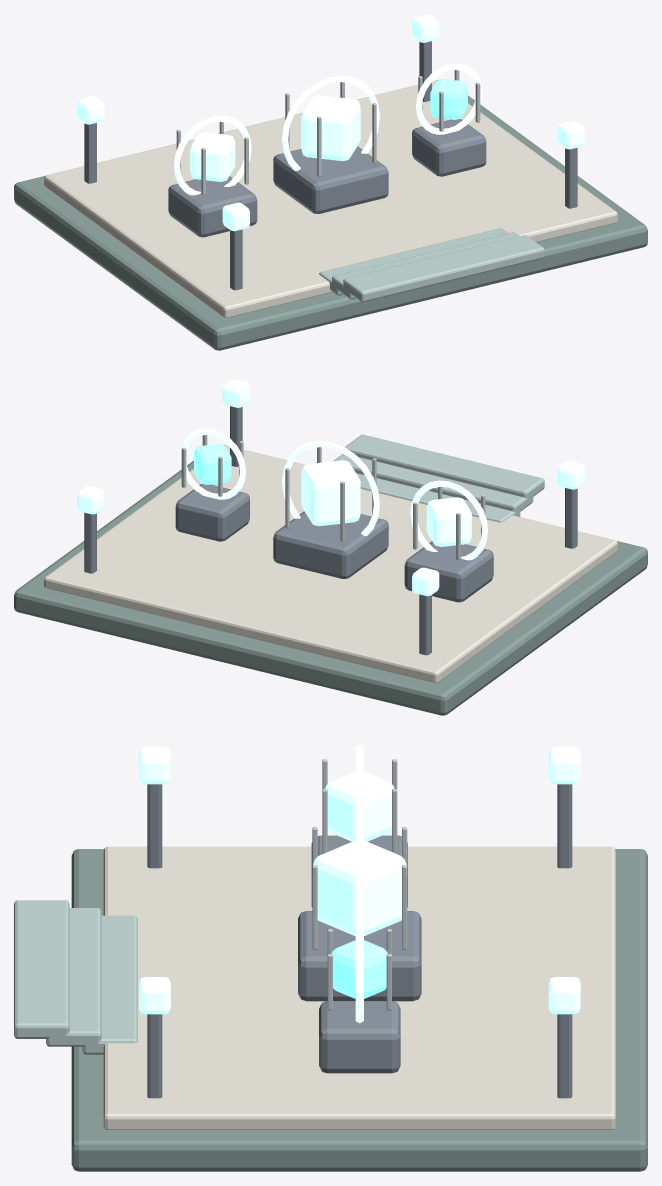
The model's file is 13-plaza-beacon-kit.glb.
The picture shows the model from 3 angles, top to bottom: view 1: azimuth 30°, elevation 25°; view 2: azimuth 150°, elevation 25°; view 3: azimuth 270°, elevation 25°; orthographic projection. The views are drawn at different scales.
Parts seen in each view (by area): view 1: PlazaKit_Top, PlazaKit_Base, PlazaKit_Step_2, Beacon_1_Pedestal, Beacon_0_Pedestal, Beacon_1_Cube, Beacon_2_Pedestal, Beacon_0_Cube, PlazaKit_Step_0, Beacon_1_Halo, PlazaKit_Step_1, Beacon_2_Cube (+10 smaller); view 2: PlazaKit_Top, PlazaKit_Base, Beacon_1_Pedestal, PlazaKit_Step_2, Beacon_0_Pedestal, Beacon_1_Cube, Beacon_2_Pedestal, PlazaKit_Step_1, Beacon_0_Cube, PlazaKit_Step_0, Beacon_1_Halo, Beacon_2_Cube (+10 smaller); view 3: PlazaKit_Top, PlazaKit_Base, PlazaKit_Step_2, Beacon_1_Cube, Beacon_1_Pedestal, Beacon_2_Pedestal, PlazaKit_Step_0, PlazaKit_Step_1, Beacon_0_Cube, Beacon_2_Cube, PlazaKit_LampPost_1, PlazaKit_LampPost_3 (+9 smaller).
Part boxes in pixels (left/top/right/bottom): PlazaKit_Top: left=44, top=80, right=617, bottom=317; PlazaKit_Base: left=14, top=80, right=647, bottom=350; PlazaKit_Step_2: left=343, top=235, right=544, bottom=302; Beacon_1_Pedestal: left=273, top=146, right=388, bottom=213; Beacon_0_Pedestal: left=168, top=176, right=257, bottom=237; Beacon_1_Cube: left=301, top=95, right=360, bottom=161; Beacon_2_Pedestal: left=412, top=119, right=486, bottom=176; Beacon_0_Cube: left=190, top=132, right=235, bottom=181; PlazaKit_Step_0: left=319, top=228, right=508, bottom=295; Beacon_1_Halo: left=282, top=75, right=379, bottom=170; PlazaKit_Step_1: left=332, top=232, right=519, bottom=299; Beacon_2_Cube: left=430, top=79, right=467, bottom=119; PlazaKit_Top: left=44, top=445, right=617, bottom=682; PlazaKit_Base: left=14, top=445, right=647, bottom=715; Beacon_1_Pedestal: left=273, top=511, right=388, bottom=578; PlazaKit_Step_2: left=345, top=434, right=544, bottom=499; Beacon_0_Pedestal: left=404, top=541, right=493, bottom=602; Beacon_1_Cube: left=301, top=460, right=360, bottom=526; Beacon_2_Pedestal: left=175, top=484, right=249, bottom=541; PlazaKit_Step_1: left=333, top=454, right=533, bottom=513; Beacon_0_Cube: left=426, top=497, right=471, bottom=546; PlazaKit_Step_0: left=356, top=473, right=520, bottom=522; Beacon_1_Halo: left=282, top=440, right=379, bottom=535; Beacon_2_Cube: left=194, top=444, right=231, bottom=484; PlazaKit_Top: left=103, top=846, right=615, bottom=1129; PlazaKit_Base: left=71, top=849, right=647, bottom=1171; PlazaKit_Step_2: left=14, top=900, right=69, bottom=1038; Beacon_1_Cube: left=313, top=840, right=406, bottom=935; Beacon_1_Pedestal: left=298, top=911, right=421, bottom=1001; Beacon_2_Pedestal: left=319, top=1001, right=400, bottom=1073; PlazaKit_Step_0: left=82, top=915, right=137, bottom=1054; PlazaKit_Step_1: left=46, top=908, right=101, bottom=1046; Beacon_0_Cube: left=325, top=771, right=394, bottom=841; Beacon_2_Cube: left=331, top=940, right=387, bottom=998; PlazaKit_LampPost_1: left=147, top=1014, right=162, bottom=1098; PlazaKit_LampPost_3: left=557, top=1014, right=572, bottom=1098.
Bounding box in the file's own units: 6.6 × 2.16 × 5.94.
